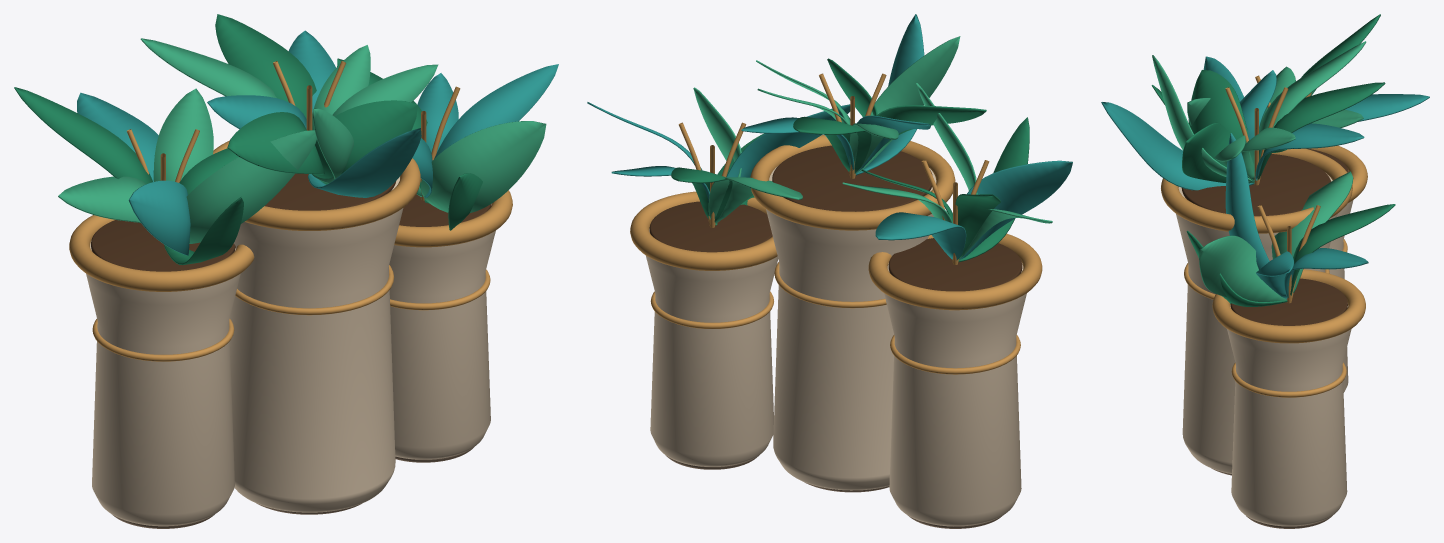
The model's file is planter.glb.
The picture shows the model from 3 angles, left to right: view 1: azimuth 30°, elevation 25°; view 2: azimuth 150°, elevation 25°; view 3: azimuth 270°, elevation 25°; orthographic projection. The views are drawn at different scales.
Parts seen in each view (by area): view 1: TropicalPlanterCluster_Planter_ivory_stone, TropicalPlanterCluster_Tropical_leaf_broad, TropicalPlanterCluster_Tropical_leaf_deep, TropicalPlanterCluster_Tropical_leaf_blue_green, TropicalPlanterCluster_Planter_brass, TropicalPlanterCluster_Planter_soil, TropicalPlanterCluster_Planter_shadow_stone; view 2: TropicalPlanterCluster_Planter_ivory_stone, TropicalPlanterCluster_Planter_brass, TropicalPlanterCluster_Planter_soil, TropicalPlanterCluster_Tropical_leaf_blue_green, TropicalPlanterCluster_Tropical_leaf_broad, TropicalPlanterCluster_Tropical_leaf_deep, TropicalPlanterCluster_Planter_shadow_stone; view 3: TropicalPlanterCluster_Planter_ivory_stone, TropicalPlanterCluster_Tropical_leaf_blue_green, TropicalPlanterCluster_Tropical_leaf_broad, TropicalPlanterCluster_Planter_brass, TropicalPlanterCluster_Tropical_leaf_deep, TropicalPlanterCluster_Planter_soil.
Boxes of the visible parts, x1=… form: TropicalPlanterCluster_Planter_ivory_stone: x1=86, y1=177, x2=495, y2=526; TropicalPlanterCluster_Tropical_leaf_broad: x1=58, y1=38, x2=546, y2=243; TropicalPlanterCluster_Tropical_leaf_deep: x1=14, y1=14, x2=482, y2=264; TropicalPlanterCluster_Tropical_leaf_blue_green: x1=77, y1=30, x2=558, y2=255; TropicalPlanterCluster_Planter_brass: x1=69, y1=61, x2=512, y2=361; TropicalPlanterCluster_Planter_soil: x1=91, y1=173, x2=491, y2=271; TropicalPlanterCluster_Planter_shadow_stone: x1=113, y1=447, x2=473, y2=528; TropicalPlanterCluster_Planter_ivory_stone: x1=645, y1=166, x2=1026, y2=526; TropicalPlanterCluster_Planter_brass: x1=630, y1=73, x2=1042, y2=374; TropicalPlanterCluster_Planter_soil: x1=649, y1=145, x2=1022, y2=291; TropicalPlanterCluster_Tropical_leaf_blue_green: x1=587, y1=14, x2=1072, y2=260; TropicalPlanterCluster_Tropical_leaf_broad: x1=693, y1=36, x2=1052, y2=259; TropicalPlanterCluster_Tropical_leaf_deep: x1=671, y1=58, x2=1029, y2=262; TropicalPlanterCluster_Planter_shadow_stone: x1=665, y1=455, x2=1001, y2=528; TropicalPlanterCluster_Planter_ivory_stone: x1=1176, y1=173, x2=1353, y2=526; TropicalPlanterCluster_Tropical_leaf_blue_green: x1=1101, y1=56, x2=1429, y2=299; TropicalPlanterCluster_Tropical_leaf_broad: x1=1152, y1=41, x2=1366, y2=301; TropicalPlanterCluster_Planter_brass: x1=1161, y1=75, x2=1367, y2=397; TropicalPlanterCluster_Tropical_leaf_deep: x1=1151, y1=14, x2=1395, y2=306; TropicalPlanterCluster_Planter_soil: x1=1181, y1=148, x2=1348, y2=325.
Size of the model in its own units: 5.86 by 4.87 by 3.85.
